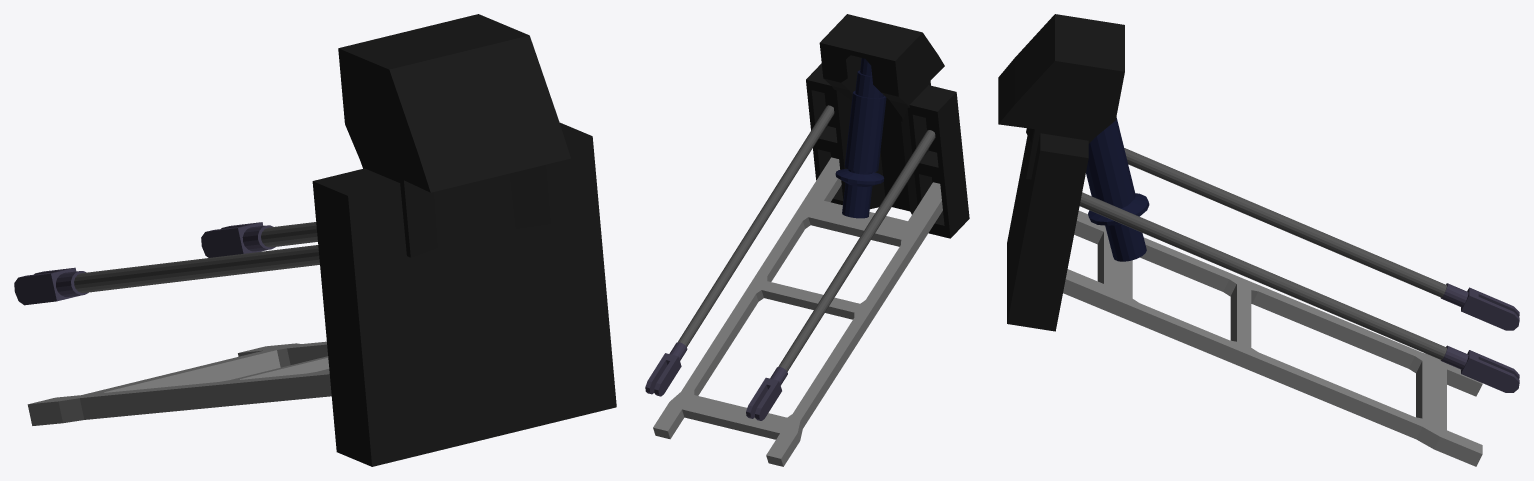
Rendered from Suspension Angled.glb.
3 views of the same model, side by side, from view 1: azimuth 30°, elevation 25°; view 2: azimuth 150°, elevation 25°; view 3: azimuth 270°, elevation 25° (orthographic). The views are drawn at different scales.
Parts seen in each view (by area): view 1: Suspension Mount, Lower Suspension Bracket, Upper Suspension Axle, Upper Suspension Bracket; view 2: Suspension Mount, Lower Suspension Bracket, Upper Suspension Axle, Suspension Show Upper, Upper Suspension Bracket, Suspension Shock Lower; view 3: Suspension Mount, Lower Suspension Bracket, Upper Suspension Axle, Upper Suspension Bracket, Suspension Show Upper, Suspension Shock Lower.
Part boxes in pixels (x1,y1,x2,y2): Suspension Mount: (312,14,616,466); Lower Suspension Bracket: (27,341,331,425); Upper Suspension Axle: (74,222,319,292); Upper Suspension Bracket: (14,222,275,305); Suspension Mount: (806,14,969,238); Lower Suspension Bracket: (653,157,942,466); Upper Suspension Axle: (678,105,935,371); Suspension Show Upper: (844,58,886,172); Upper Suspension Bracket: (645,342,787,420); Suspension Shock Lower: (835,169,884,218); Suspension Mount: (998,14,1124,331); Lower Suspension Bracket: (1063,210,1482,466); Upper Suspension Axle: (1079,148,1446,359); Upper Suspension Bracket: (1440,283,1519,392); Suspension Show Upper: (1086,117,1135,207); Suspension Shock Lower: (1088,193,1149,261).
Bounding box in the file's own units: 0.1346 × 0.2995 × 0.3628.
